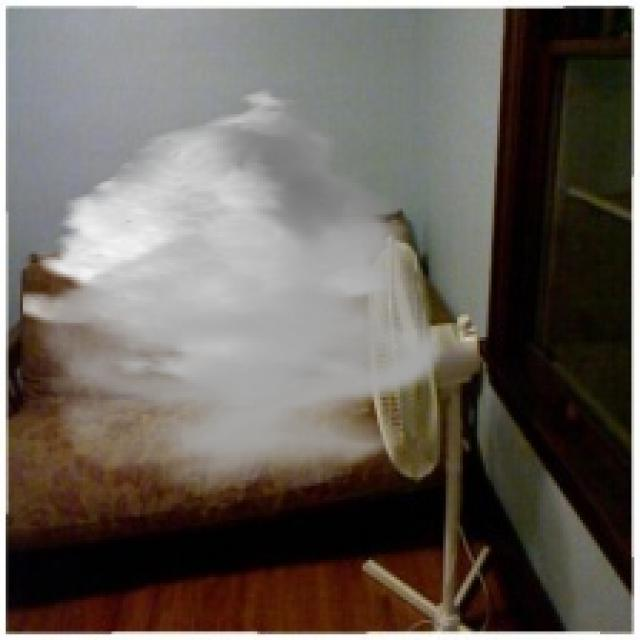smoke: (23, 86, 448, 494)
